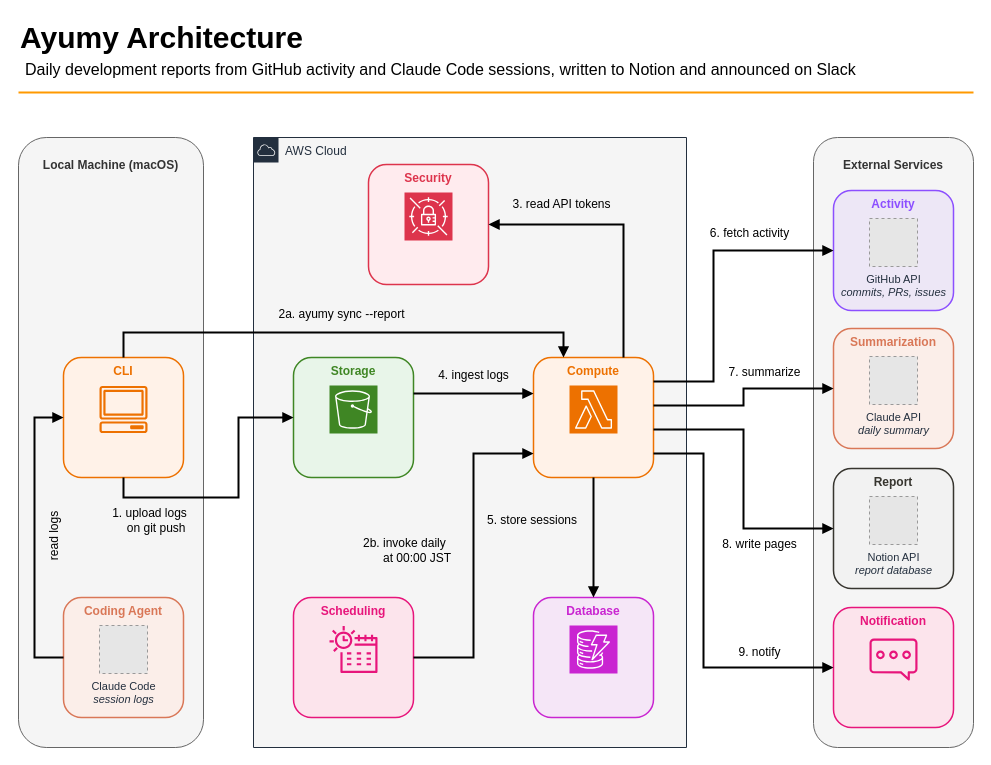
This 991x765 diagram has some shape labels left out. Grey dashed boxes stand in for pictures. Here are the shapes that lost their labels. From the top down, the centre of each, then its label:
At point 428,216: "Secrets Manager API tokens".
At point 123,409: "ayumy CLI pre-push hook, sync".
At point 353,409: "Amazon S3 session logs".
At point 593,409: "AWS Lambda ayumy-report".
At point 353,649: "EventBridge Scheduler".
At point 593,649: "Amazon DynamoDB sessions, costs".
At point 893,659: "Slack API run summary".
